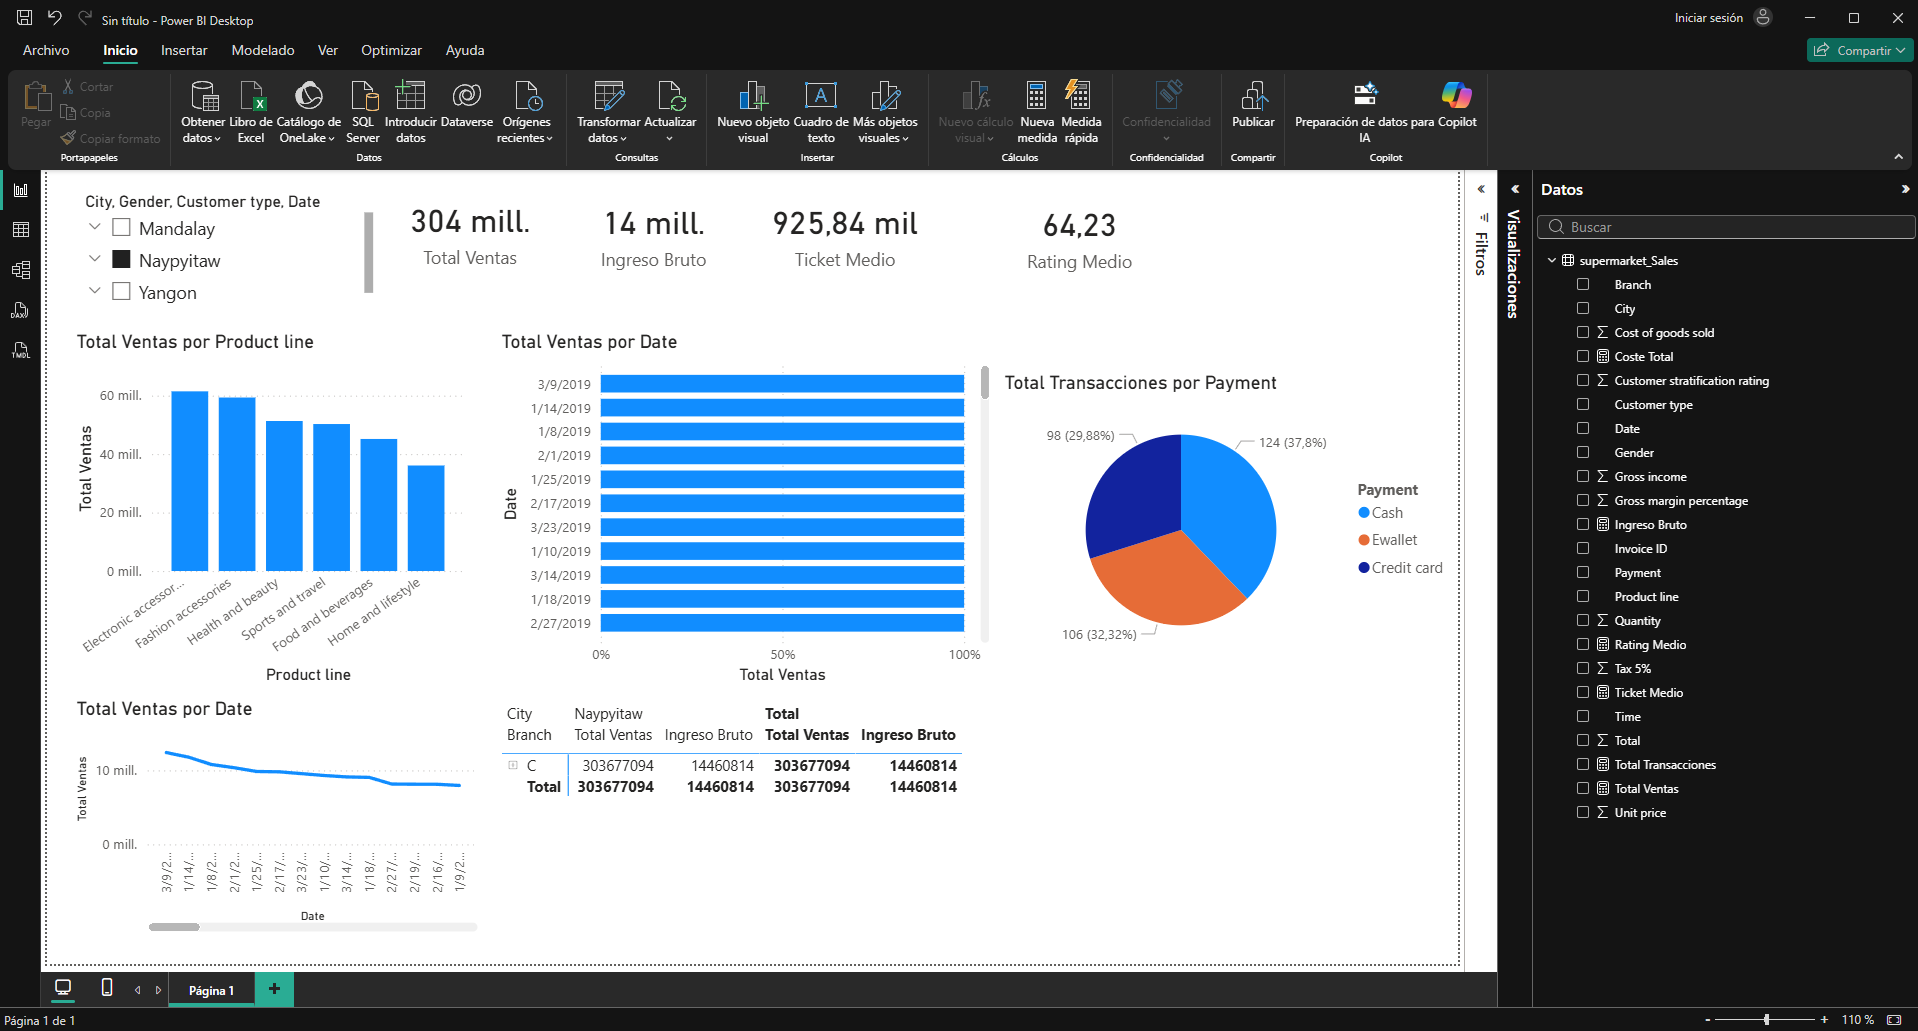

The dashboard page shown, as its layout file describes it:
{"tool":"powerbi","page":{"name":"Página 1","canvas":[1280,720],"ordinal":0},"visuals":[{"type":"card","fields":{"Values":["supermarket_Sales.Total Ventas"]},"box":[301.1,15.4,165,78.9],"z":1000},{"type":"card","fields":{"Values":["supermarket_Sales.Ingreso Bruto"]},"box":[466.1,15.4,167.8,82.5],"z":2000},{"type":"card","fields":{"Values":["supermarket_Sales.Ticket Medio"]},"box":[633.9,15.4,179.5,82.5],"z":3000},{"type":"card","fields":{"Values":["supermarket_Sales.Rating Medio"]},"box":[813.4,19,245.7,78.9],"z":4000},{"type":"clusteredColumnChart","fields":{"Category":["supermarket_Sales.Product line"],"Y":["supermarket_Sales.Total Ventas"]},"box":[21.8,145.1,361.8,325.5],"z":5000},{"type":"hundredPercentStackedBarChart","fields":{"Category":["supermarket_Sales.Date"],"Y":["supermarket_Sales.Total Ventas"]},"box":[407.2,145.1,452.5,325.5],"z":6000},{"type":"pieChart","fields":{"Category":["supermarket_Sales.Payment"],"Y":["supermarket_Sales.Total Transacciones"]},"box":[863.3,182.3,417.1,269.3],"z":7000},{"type":"lineChart","fields":{"Category":["supermarket_Sales.Date"],"Y":["supermarket_Sales.Total Ventas"]},"box":[21.8,477.9,373.6,217.6],"z":8000},{"type":"pivotTable","fields":{"Rows":["supermarket_Sales.Branch","supermarket_Sales.Product line"],"Columns":["supermarket_Sales.City"],"Values":["supermarket_Sales.Total Ventas","supermarket_Sales.Ingreso Bruto"]},"box":[407.2,477.9,791.6,180.5],"z":9000},{"type":"slicer","fields":{"Values":["supermarket_Sales.City","supermarket_Sales.Gender","supermarket_Sales.Customer type","supermarket_Sales.Date"]},"box":[21.8,15.4,279.3,113.4],"z":10000}]}

Visuals, with their boxes on the page's 1280x720 design canvas (x1, y1, x2, y2). These are canvas units, not pixel positions in the 1918x1031 screenshot, which may show the page scaled, cropped or inside an application window:
card - supermarket_Sales.Total Ventas: x1=301 y1=15 x2=466 y2=94
card - supermarket_Sales.Ingreso Bruto: x1=466 y1=15 x2=634 y2=98
card - supermarket_Sales.Ticket Medio: x1=634 y1=15 x2=813 y2=98
card - supermarket_Sales.Rating Medio: x1=813 y1=19 x2=1059 y2=98
clusteredColumnChart - supermarket_Sales.Product line x supermarket_Sales.Total Ventas: x1=22 y1=145 x2=384 y2=471
hundredPercentStackedBarChart - supermarket_Sales.Date x supermarket_Sales.Total Ventas: x1=407 y1=145 x2=860 y2=471
pieChart - supermarket_Sales.Payment x supermarket_Sales.Total Transacciones: x1=863 y1=182 x2=1280 y2=452
lineChart - supermarket_Sales.Date x supermarket_Sales.Total Ventas: x1=22 y1=478 x2=395 y2=696
pivotTable - supermarket_Sales.Branch x supermarket_Sales.Product line: x1=407 y1=478 x2=1199 y2=658
slicer - supermarket_Sales.City x supermarket_Sales.Gender: x1=22 y1=15 x2=301 y2=129
